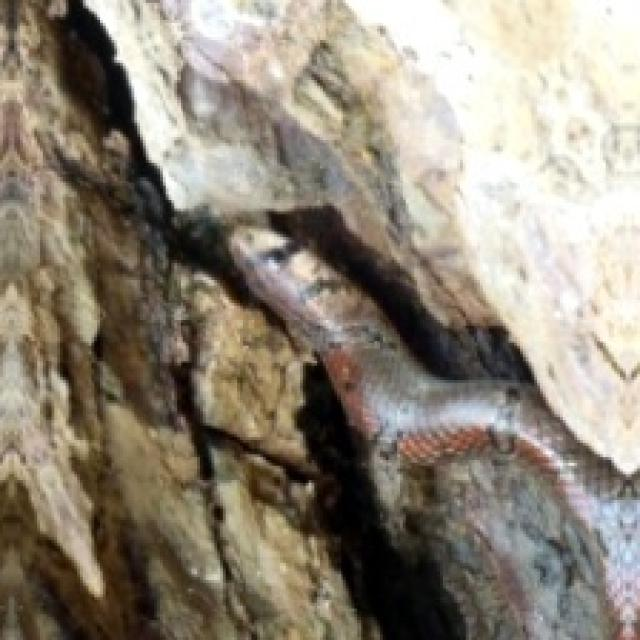northern short-headed snake: (231, 209, 637, 637)
